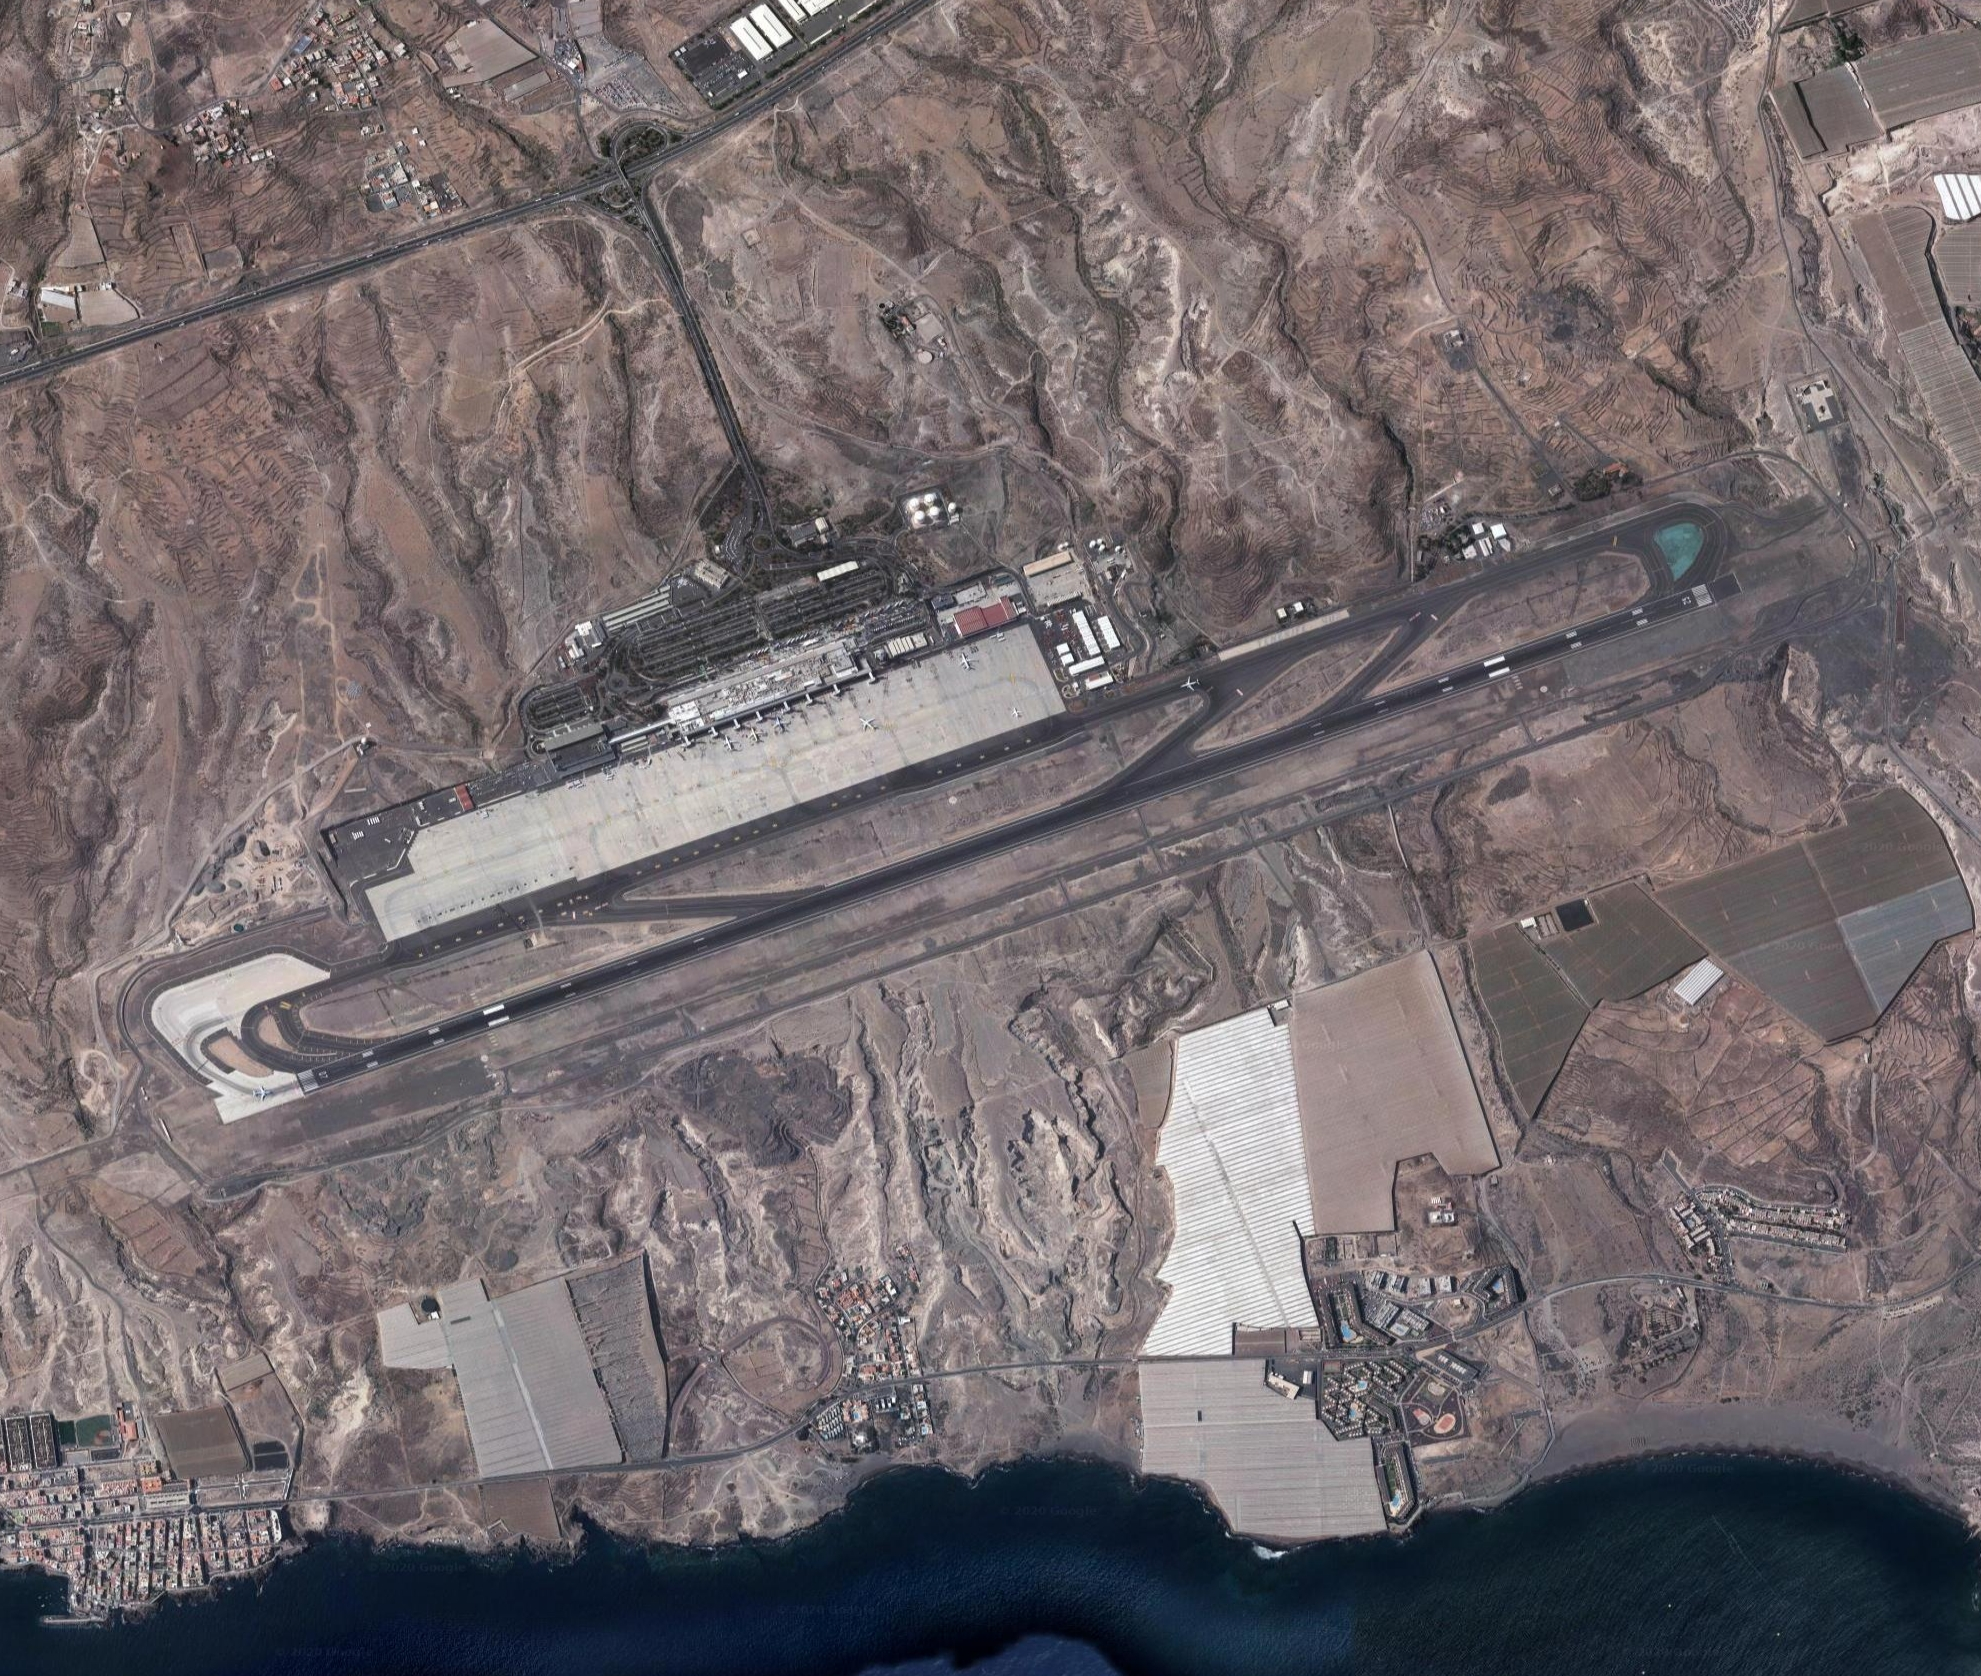airport: (143, 494, 1747, 1127)
harbor: (2, 1491, 299, 1629)
motorway: (711, 2, 922, 133), (490, 131, 735, 229), (239, 208, 484, 304), (2, 293, 244, 389), (683, 329, 763, 482), (613, 219, 710, 338)
